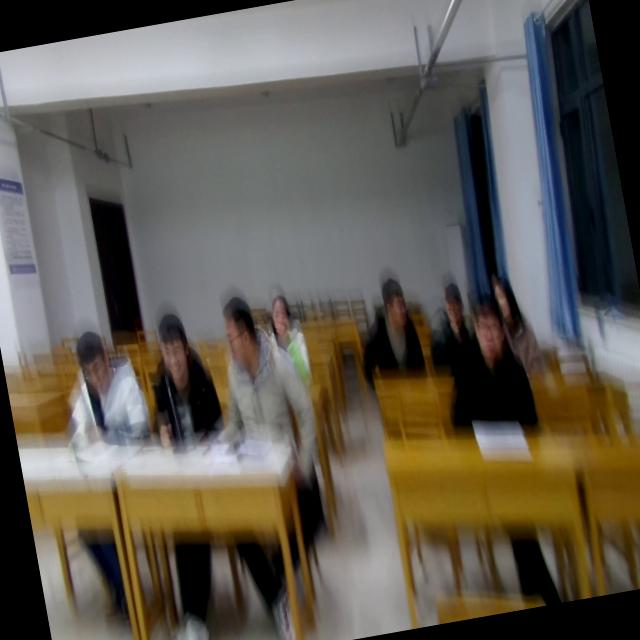down: (67, 323, 114, 398)
lookup: (148, 302, 196, 385), (464, 291, 509, 367), (260, 284, 298, 342), (435, 274, 468, 333), (488, 267, 518, 324)
sit: (186, 284, 318, 453), (428, 290, 544, 447), (48, 322, 158, 463), (132, 306, 230, 459), (346, 273, 429, 390), (415, 276, 486, 382), (486, 268, 546, 379), (260, 288, 316, 391)
